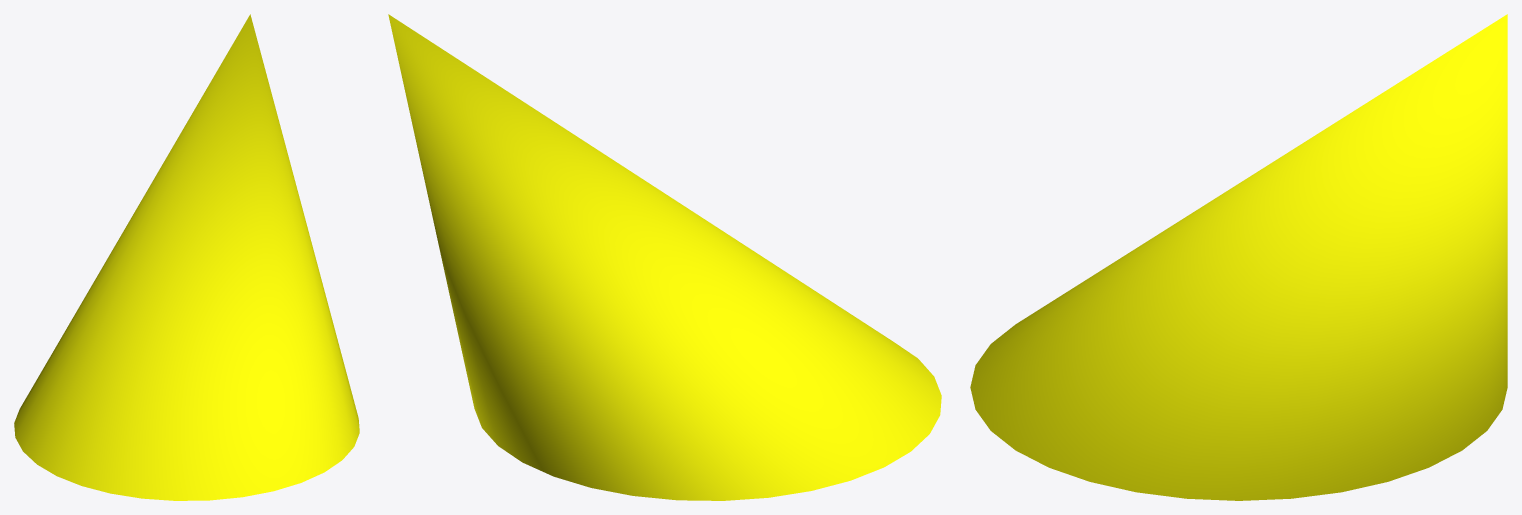
The model's file is oblique_cone.fbx.
The picture shows the model from 3 angles, left to right: view 1: azimuth 30°, elevation 25°; view 2: azimuth 150°, elevation 25°; view 3: azimuth 270°, elevation 25°; orthographic projection. The views are drawn at different scales.
Visible parts, largest first — view 1: oblique_cone; view 2: oblique_cone; view 3: oblique_cone.
Boxes of the visible parts, x1,y1,x2,y2 form: oblique_cone: (14,14,359,500); oblique_cone: (388,14,941,500); oblique_cone: (970,14,1507,500).
Bounding box in the file's own units: 115 × 115 × 115.
